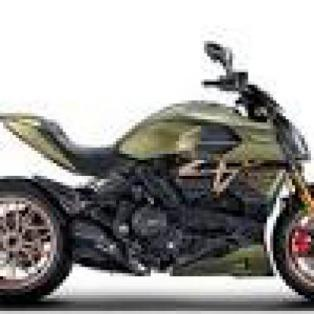Motocicleta: (0, 44, 311, 308)
